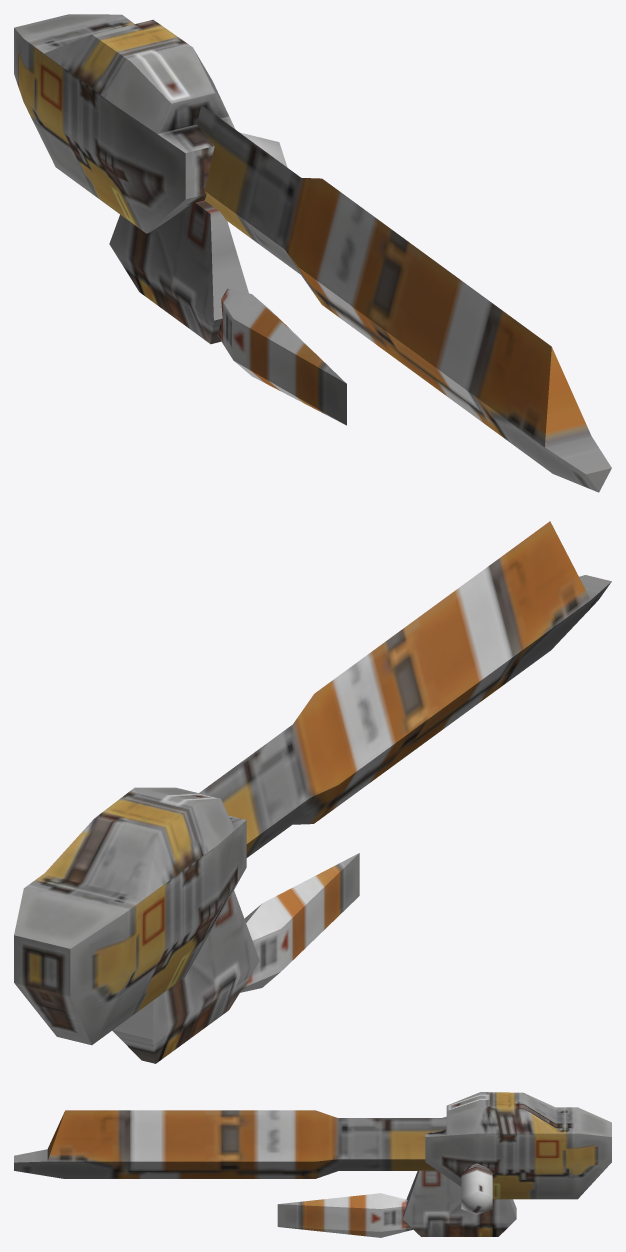
Rendered from sensor_hgn_m_01_t1.glb.
3 renders of one model, top to bottom at view 1: azimuth 30°, elevation 25°; view 2: azimuth 150°, elevation 25°; view 3: azimuth 270°, elevation 25°, orthographic. The views are drawn at different scales.
Parts seen in each view (by area): view 1: sensor_m_01_LOD0; view 2: sensor_m_01_LOD0; view 3: sensor_m_01_LOD0.
Boxes of the visible parts, x1,y1,x2,y2 form: sensor_m_01_LOD0: [14, 14, 611, 492]; sensor_m_01_LOD0: [14, 521, 611, 1063]; sensor_m_01_LOD0: [14, 1092, 611, 1237].
Size of the model in its own units: 0.3705 by 0.5367 by 2.1.
1 material, 1 textured.
